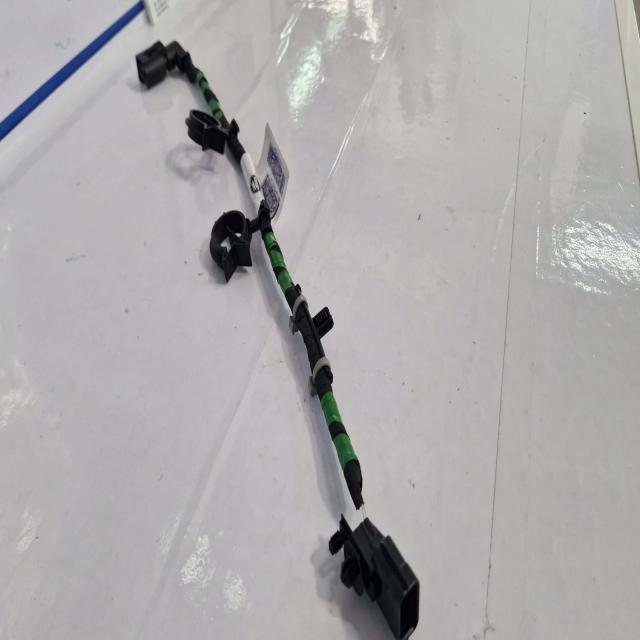AJ20_D6_Cable: (137, 54, 366, 509)
Clip: (183, 107, 241, 161), (212, 211, 255, 280)
Connector: (329, 515, 419, 640), (137, 39, 191, 86)
Info: (242, 126, 287, 224)
strap: (309, 355, 331, 391), (291, 295, 308, 322)
